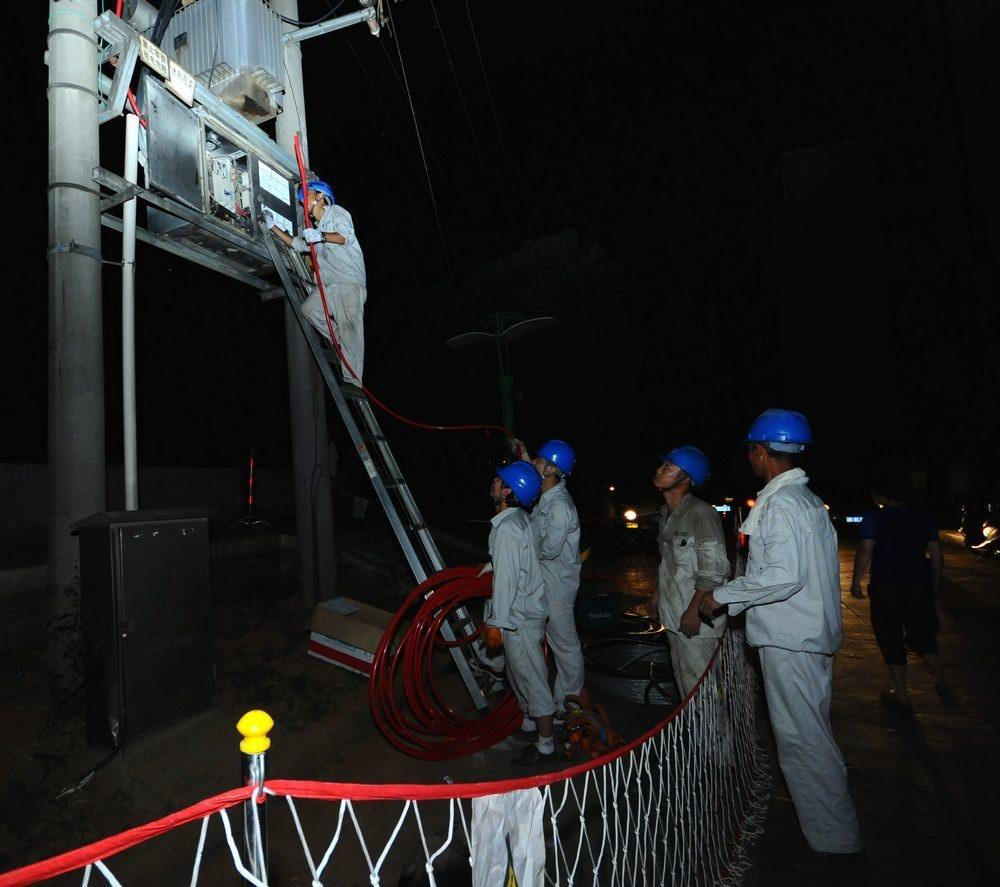helmet: (741, 409, 811, 474), (652, 439, 715, 498), (491, 452, 542, 518)
no-vest: (724, 467, 846, 666)
person: (727, 409, 860, 880), (481, 454, 559, 741), (646, 439, 737, 674), (293, 172, 373, 386), (536, 447, 589, 708)
